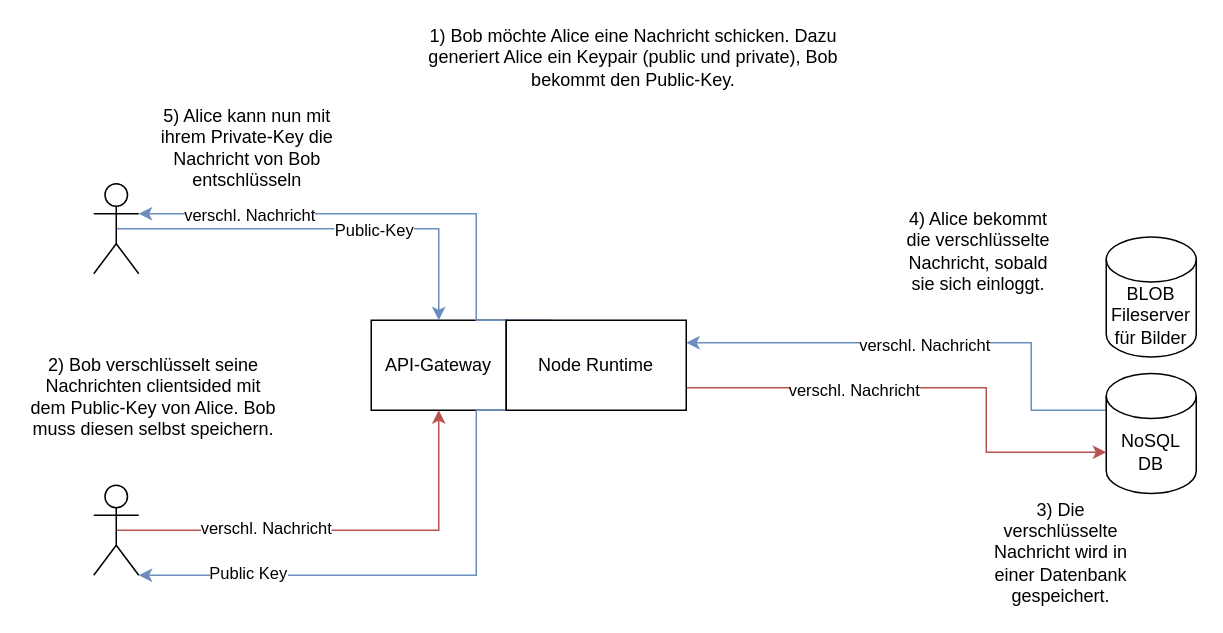
This 1223x633 diagram has some shape labels left out. Here are the shapes that lost their labels. From the top down, the box of each, then its label:
(92, 182, 139, 274): Alice
(92, 484, 139, 575): Bob
